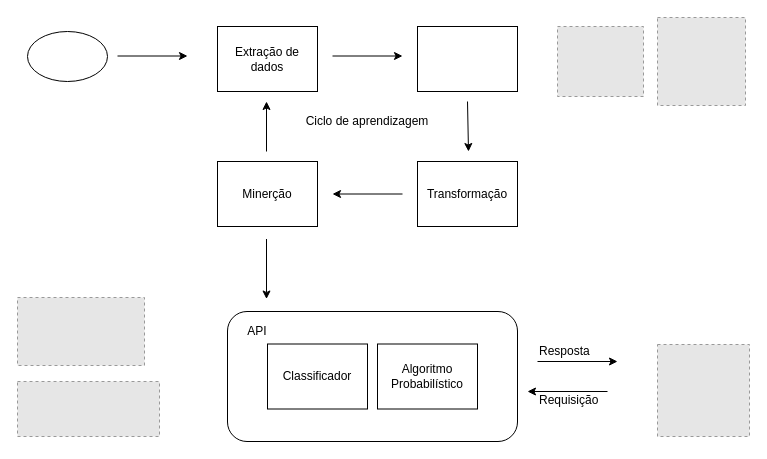
The diagram is 767 pixels wide and 459 high, and some of its shapes have lost their labels. Grey dashed boxes stand in for pictures. The shapes that lost their labels are listed below. From the top down, each one's box as (x1, y1, x2, y2) in pixels, then its label:
(26, 30, 108, 82): Início
(416, 26, 518, 92): Pré processamento
